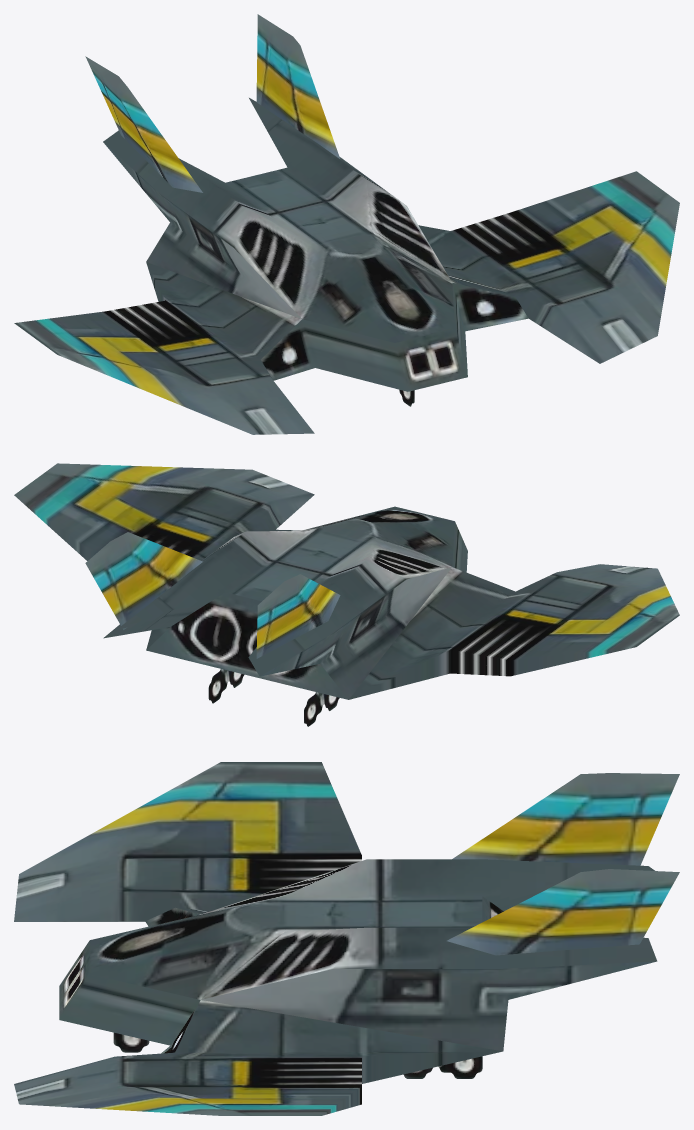
The model's file is shilonep_hdtex.glb.
3 renders of one model, top to bottom at view 1: azimuth 30°, elevation 25°; view 2: azimuth 150°, elevation 25°; view 3: azimuth 270°, elevation 25°, orthographic. The views are drawn at different scales.
Visible parts, largest first — view 1: ShiloneParked; view 2: ShiloneParked; view 3: ShiloneParked.
Part boxes in pixels (x1,y1,x2,y2): ShiloneParked: [14, 14, 679, 434]; ShiloneParked: [14, 463, 679, 726]; ShiloneParked: [14, 762, 679, 1115].
Size of the model in its own units: 10.38 by 3.16 by 8.25.
1 material, 1 textured.
